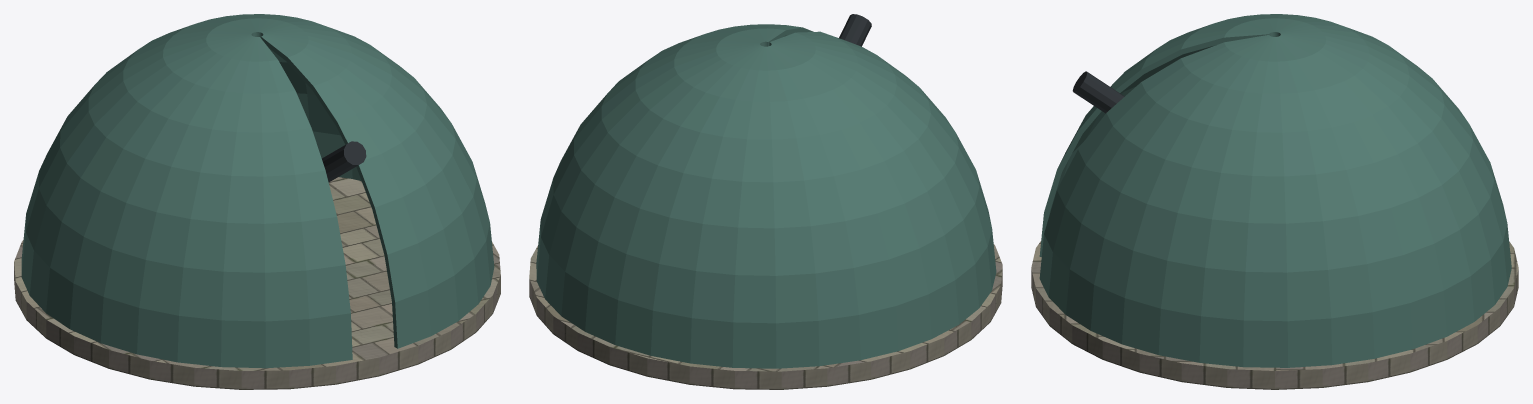
Rendered from Furn_Roof_Dome.fbx.
The picture shows the model from 3 angles, left to right: view 1: azimuth 30°, elevation 25°; view 2: azimuth 150°, elevation 25°; view 3: azimuth 270°, elevation 25°; orthographic projection. The views are drawn at different scales.
Visible parts, largest first — view 1: Furn_Roof_Dome_Mesh; view 2: Furn_Roof_Dome_Mesh; view 3: Furn_Roof_Dome_Mesh.
Boxes of the visible parts, box(x1,y1,x2,y2) form: Furn_Roof_Dome_Mesh: box(14, 14, 500, 389); Furn_Roof_Dome_Mesh: box(529, 14, 1002, 389); Furn_Roof_Dome_Mesh: box(1031, 14, 1518, 389).
Bounding box in the file's own units: 7 × 4 × 7.
